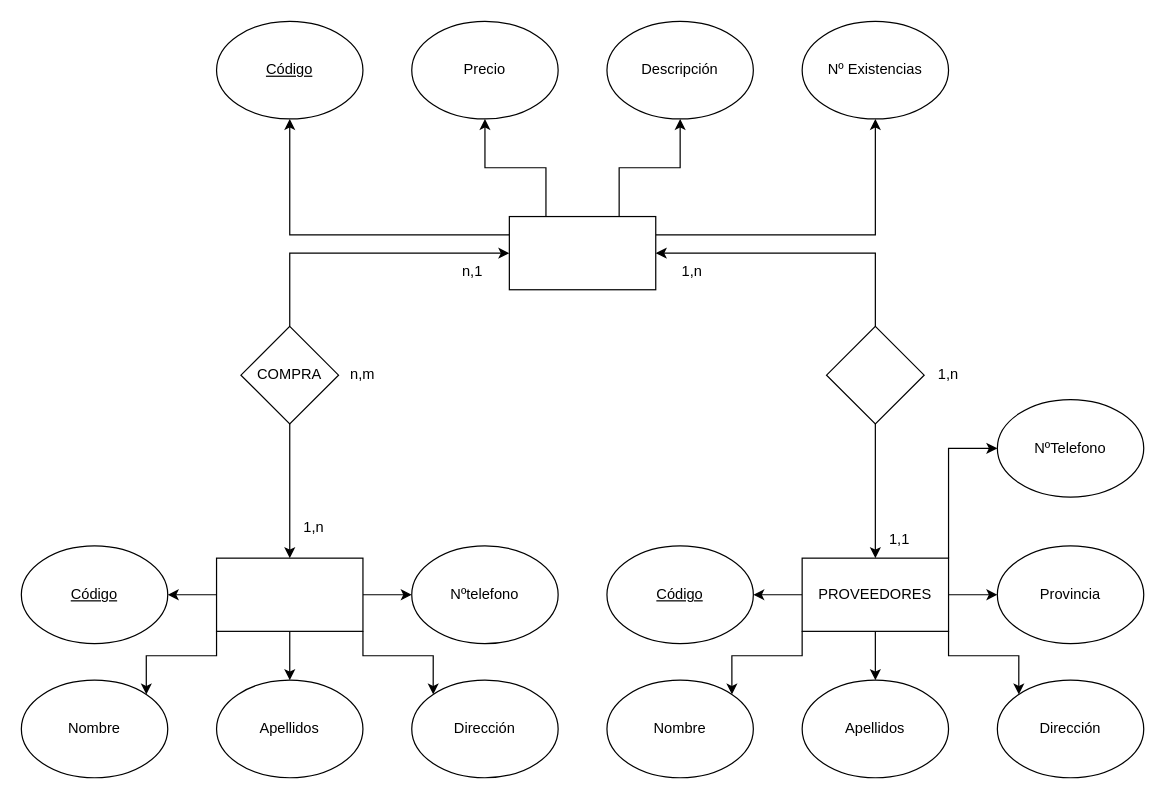
Image size: 1165x799. Some labels were removed from this diagram. Each missing label, with the centre of its shape:
"CLIENTE" belongs at (x=289, y=594).
"PRODUCTO" belongs at (x=582, y=252).
"SUMINISTRA" belongs at (x=874, y=374).
